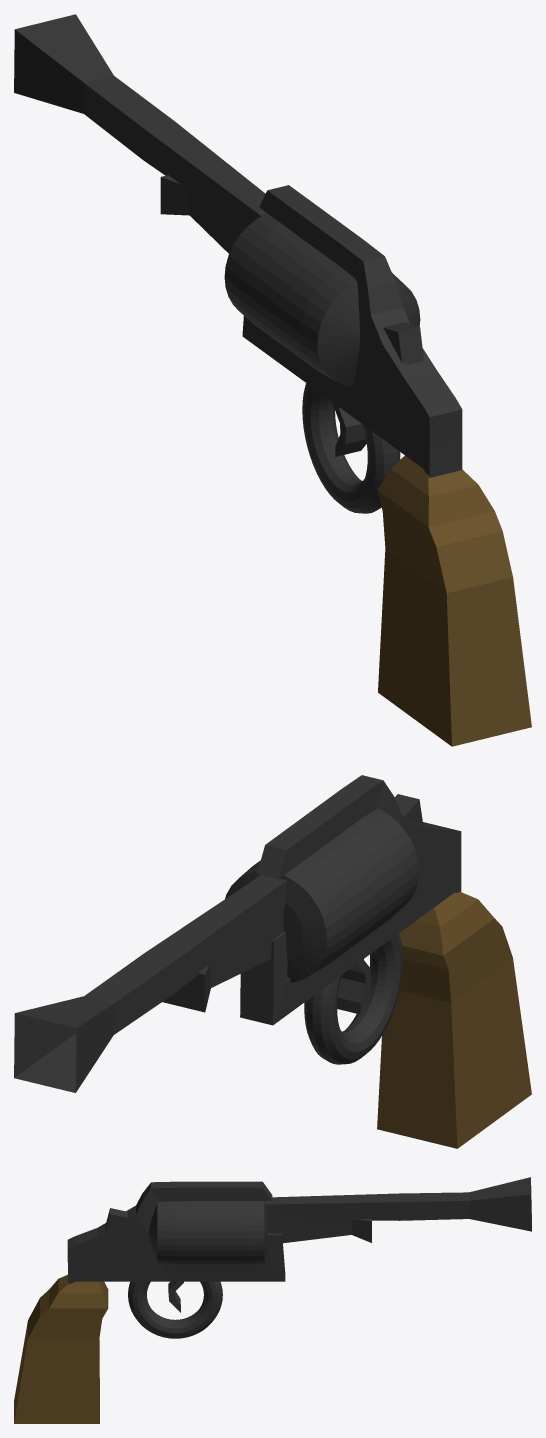
Rendered from pistol.fbx.
3 views of the same model, one above another, from view 1: azimuth 30°, elevation 25°; view 2: azimuth 150°, elevation 25°; view 3: azimuth 270°, elevation 25° (orthographic). The views are drawn at different scales.
Visible parts, largest first — view 1: Cube; view 2: Cube; view 3: Cube.
Boxes of the visible parts, x1,y1,x2,y2 form: Cube: [14, 14, 531, 746]; Cube: [14, 775, 531, 1148]; Cube: [14, 1177, 531, 1423].
Size of the model in its own units: 37.59 by 132 by 272.
